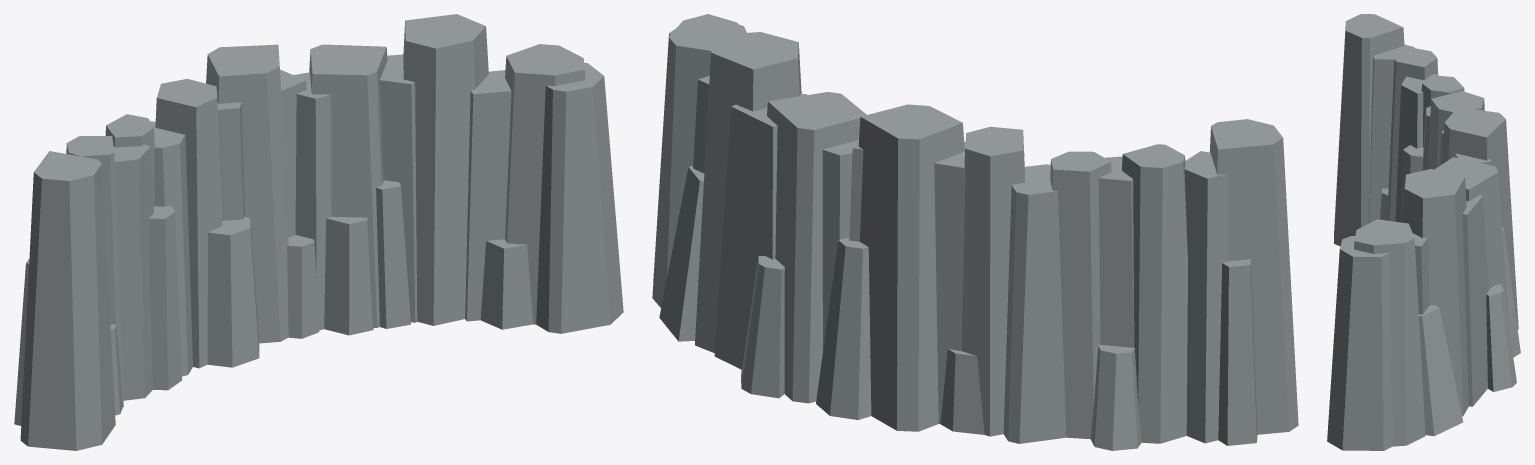
File: NHP_Rock_Wall_Round_A1_03.fbx
The picture shows the model from 3 angles, left to right: view 1: azimuth 30°, elevation 25°; view 2: azimuth 150°, elevation 25°; view 3: azimuth 270°, elevation 25°; orthographic projection. The views are drawn at different scales.
Parts seen in each view (by area): view 1: NHP_Rock_Wall_Round_A1_03; view 2: NHP_Rock_Wall_Round_A1_03; view 3: NHP_Rock_Wall_Round_A1_03.
Boxes of the visible parts, x1,y1,x2,y2 form: NHP_Rock_Wall_Round_A1_03: (14,14,623,450); NHP_Rock_Wall_Round_A1_03: (652,14,1298,450); NHP_Rock_Wall_Round_A1_03: (1327,14,1520,450).
Bounding box in the file's own units: 28.89 × 12.77 × 10.3.
